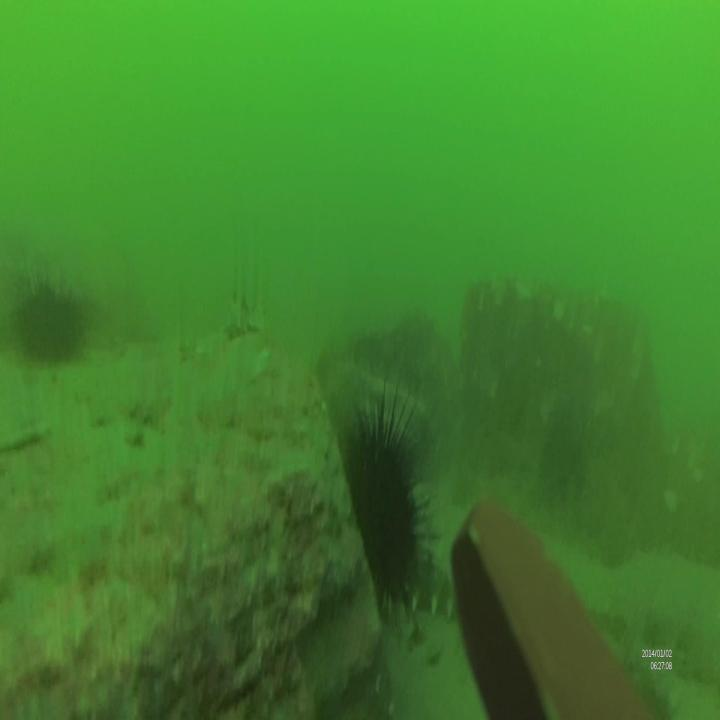echinus: (344, 389, 422, 609), (12, 266, 84, 370)
holothurian: (411, 552, 468, 629), (225, 292, 266, 347)
